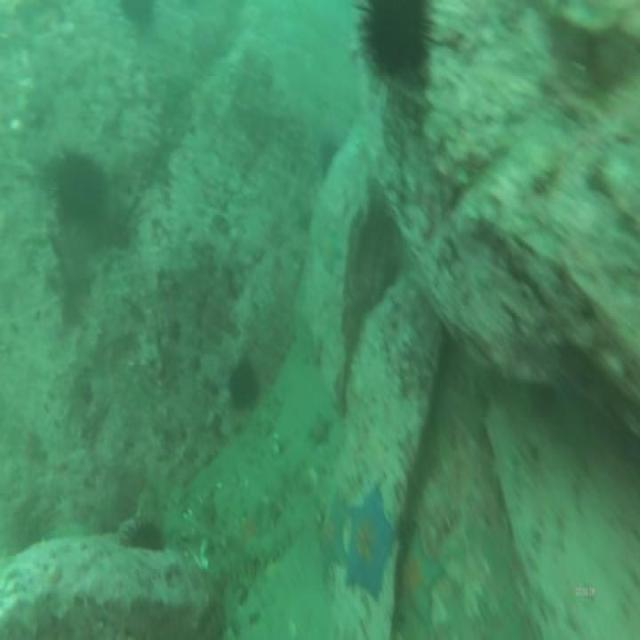echinus: (364, 3, 430, 78), (54, 158, 104, 221), (230, 362, 257, 409), (127, 520, 164, 553)
holothurian: (252, 528, 297, 561)
starfish: (349, 483, 392, 598), (399, 526, 442, 629), (318, 498, 347, 574)
